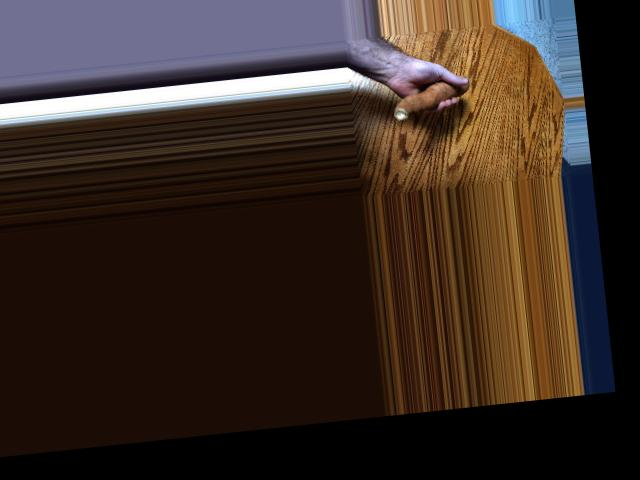sweet_potato: (385, 77, 476, 120)
